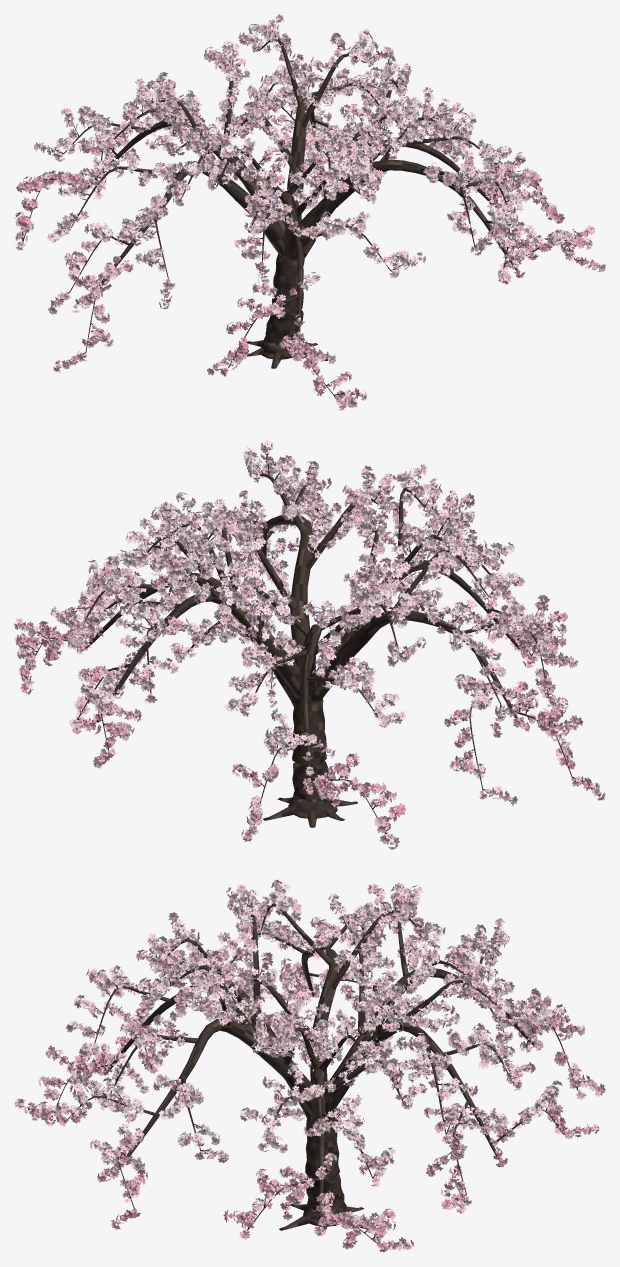
The model's file is cherry-spreading.glb.
3 renders of one model, top to bottom at view 1: azimuth 30°, elevation 25°; view 2: azimuth 150°, elevation 25°; view 3: azimuth 270°, elevation 25°, orthographic. The views are drawn at different scales.
Visible parts, largest first — view 1: spreading-03-Five-petal-blossoms, spreading-01-Trunk-limbs-and-branches, spreading-02-Twigs-and-pedicels; view 2: spreading-03-Five-petal-blossoms, spreading-01-Trunk-limbs-and-branches, spreading-02-Twigs-and-pedicels; view 3: spreading-03-Five-petal-blossoms, spreading-01-Trunk-limbs-and-branches, spreading-02-Twigs-and-pedicels.
Part boxes in pixels (x1,y1,x2,y2): spreading-03-Five-petal-blossoms: [14, 14, 605, 410]; spreading-01-Trunk-limbs-and-branches: [23, 38, 575, 399]; spreading-02-Twigs-and-pedicels: [22, 22, 590, 395]; spreading-03-Five-petal-blossoms: [14, 440, 605, 850]; spreading-01-Trunk-limbs-and-branches: [34, 474, 572, 833]; spreading-02-Twigs-and-pedicels: [22, 453, 596, 840]; spreading-03-Five-petal-blossoms: [14, 879, 605, 1252]; spreading-01-Trunk-limbs-and-branches: [52, 903, 576, 1243]; spreading-02-Twigs-and-pedicels: [23, 890, 594, 1244].
Size of the model in its own units: 11.64 by 6.06 by 10.97.
